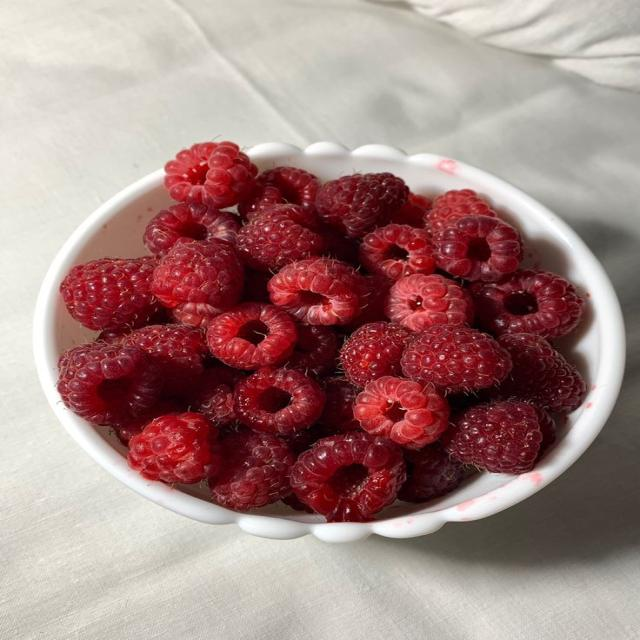raspberry: (291, 432, 405, 521), (58, 343, 162, 425), (472, 270, 584, 339), (402, 325, 512, 393), (440, 402, 542, 473), (494, 334, 586, 412), (60, 258, 159, 330), (209, 429, 295, 510), (354, 376, 449, 448), (151, 239, 243, 312), (268, 258, 365, 324), (128, 413, 219, 483), (234, 367, 325, 434), (207, 303, 297, 369), (316, 173, 408, 237), (123, 325, 206, 395), (237, 205, 326, 270), (434, 216, 522, 281), (144, 203, 239, 257), (386, 275, 473, 331), (340, 322, 413, 386), (360, 224, 435, 280), (398, 443, 463, 502), (202, 142, 257, 208), (188, 366, 245, 425), (114, 400, 185, 446), (165, 142, 218, 202), (424, 190, 496, 234), (342, 274, 393, 331), (287, 325, 340, 377), (257, 167, 319, 208), (320, 377, 359, 432), (280, 425, 334, 457), (238, 184, 283, 221), (319, 225, 359, 266), (390, 192, 432, 228), (282, 425, 328, 457), (168, 303, 222, 329), (532, 405, 556, 457), (242, 268, 272, 303), (96, 326, 134, 343), (281, 494, 313, 513), (96, 327, 131, 344)
